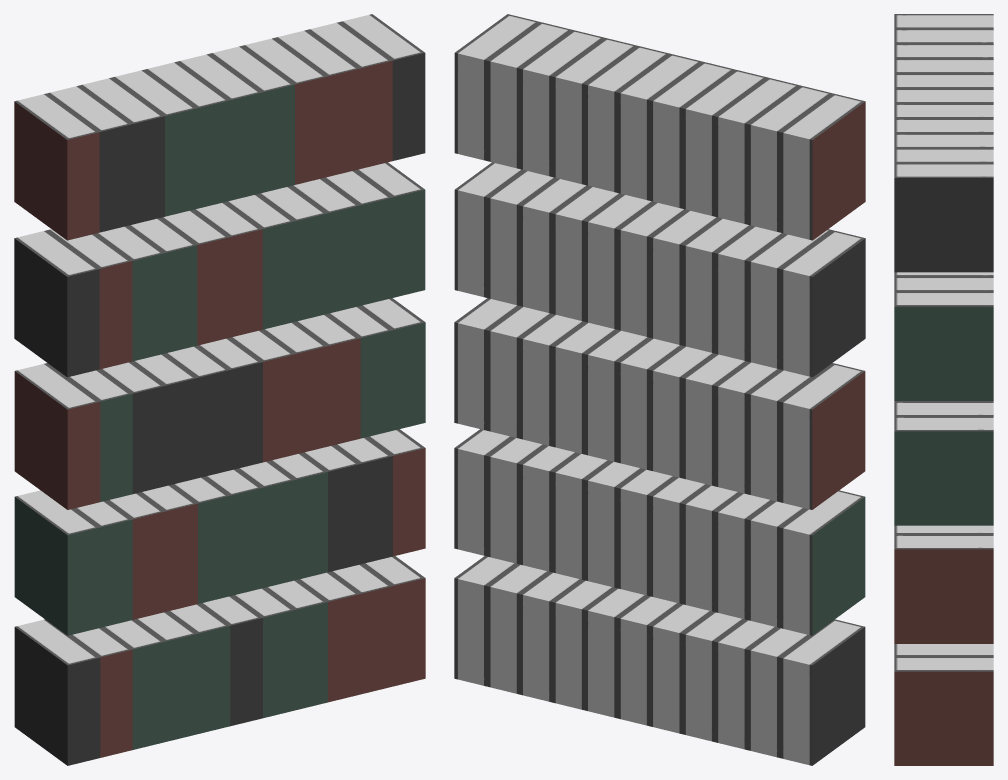
Rendered from fbx_office_books.fbx.
3 views of the same model, side by side, from view 1: azimuth 30°, elevation 25°; view 2: azimuth 150°, elevation 25°; view 3: azimuth 270°, elevation 25° (orthographic). The views are drawn at different scales.
Visible parts, largest first — view 1: fbx_office_books; view 2: fbx_office_books; view 3: fbx_office_books.
Boxes of the visible parts, left/top/right/bottom form: fbx_office_books: left=14, top=14, right=425, bottom=765; fbx_office_books: left=454, top=14, right=865, bottom=765; fbx_office_books: left=894, top=14, right=993, bottom=765.
Size of the model in its own units: 2.38 by 3.98 by 0.6092.
1 material, 1 textured.
